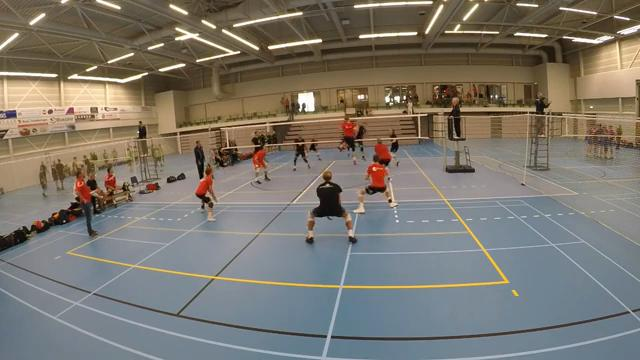attacco: (354, 120, 370, 161)
muro: (334, 112, 359, 166)
